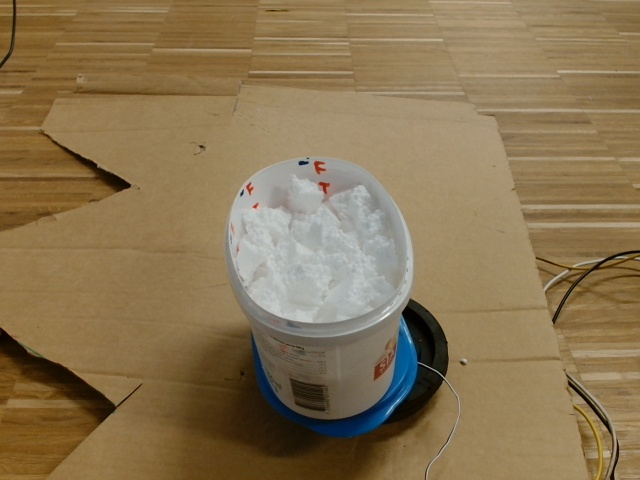Big_threequarter: (224, 150, 415, 338)
